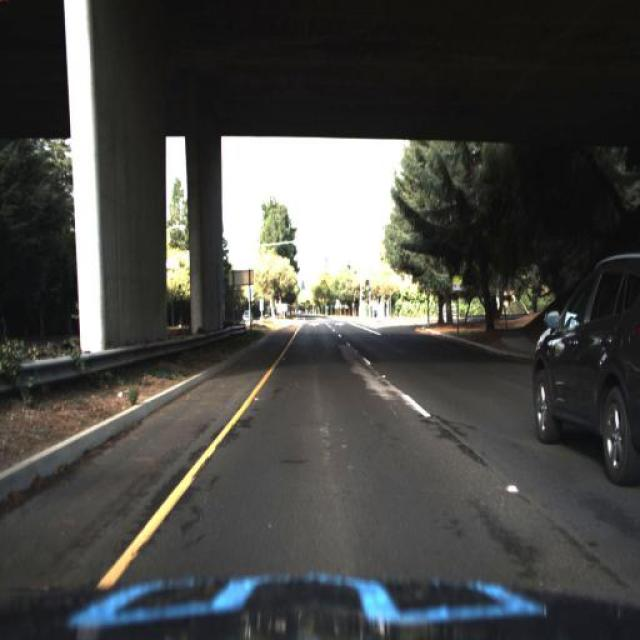car: (531, 256, 640, 489), (239, 305, 255, 327)
trafficLight-GreenLeft: (362, 276, 372, 303)
